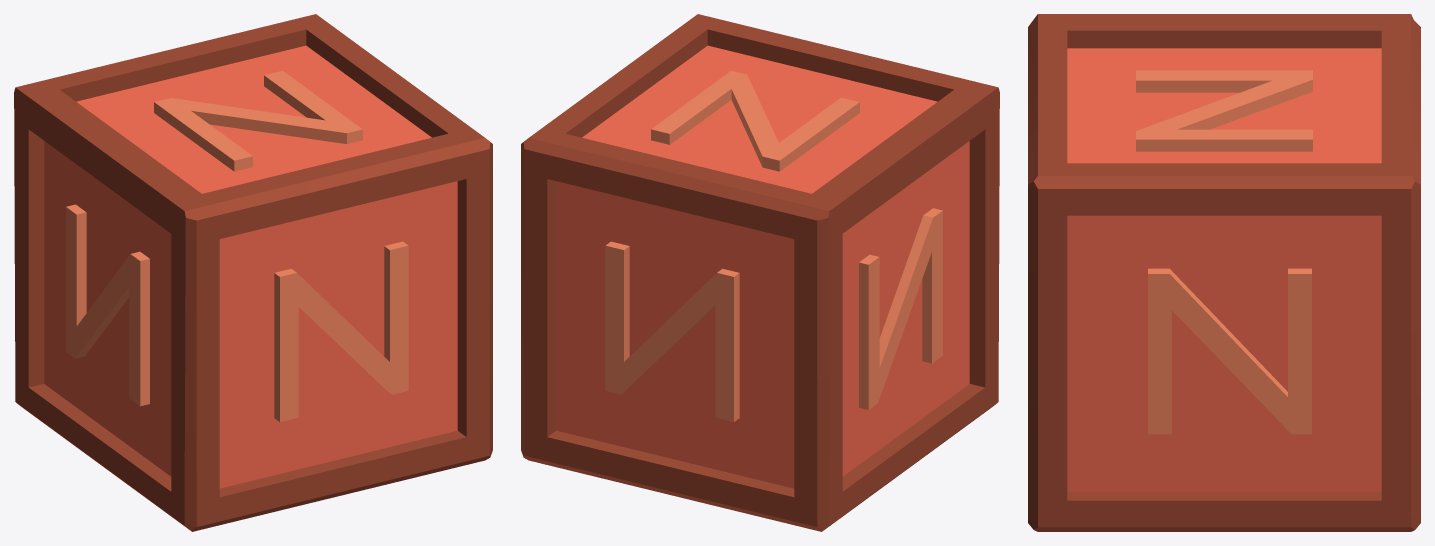
File: Nitrogen.fbx
The picture shows the model from 3 angles, left to right: view 1: azimuth 30°, elevation 25°; view 2: azimuth 150°, elevation 25°; view 3: azimuth 270°, elevation 25°; orthographic projection. The views are drawn at different scales.
Parts seen in each view (by area): view 1: Text.006; view 2: Text.006; view 3: Text.006.
Part boxes in pixels (x1,y1,x2,y2): Text.006: (14,14,492,531); Text.006: (521,14,999,531); Text.006: (1028,14,1420,531).
Bounding box in the file's own units: 84.32 × 84.32 × 84.32.
